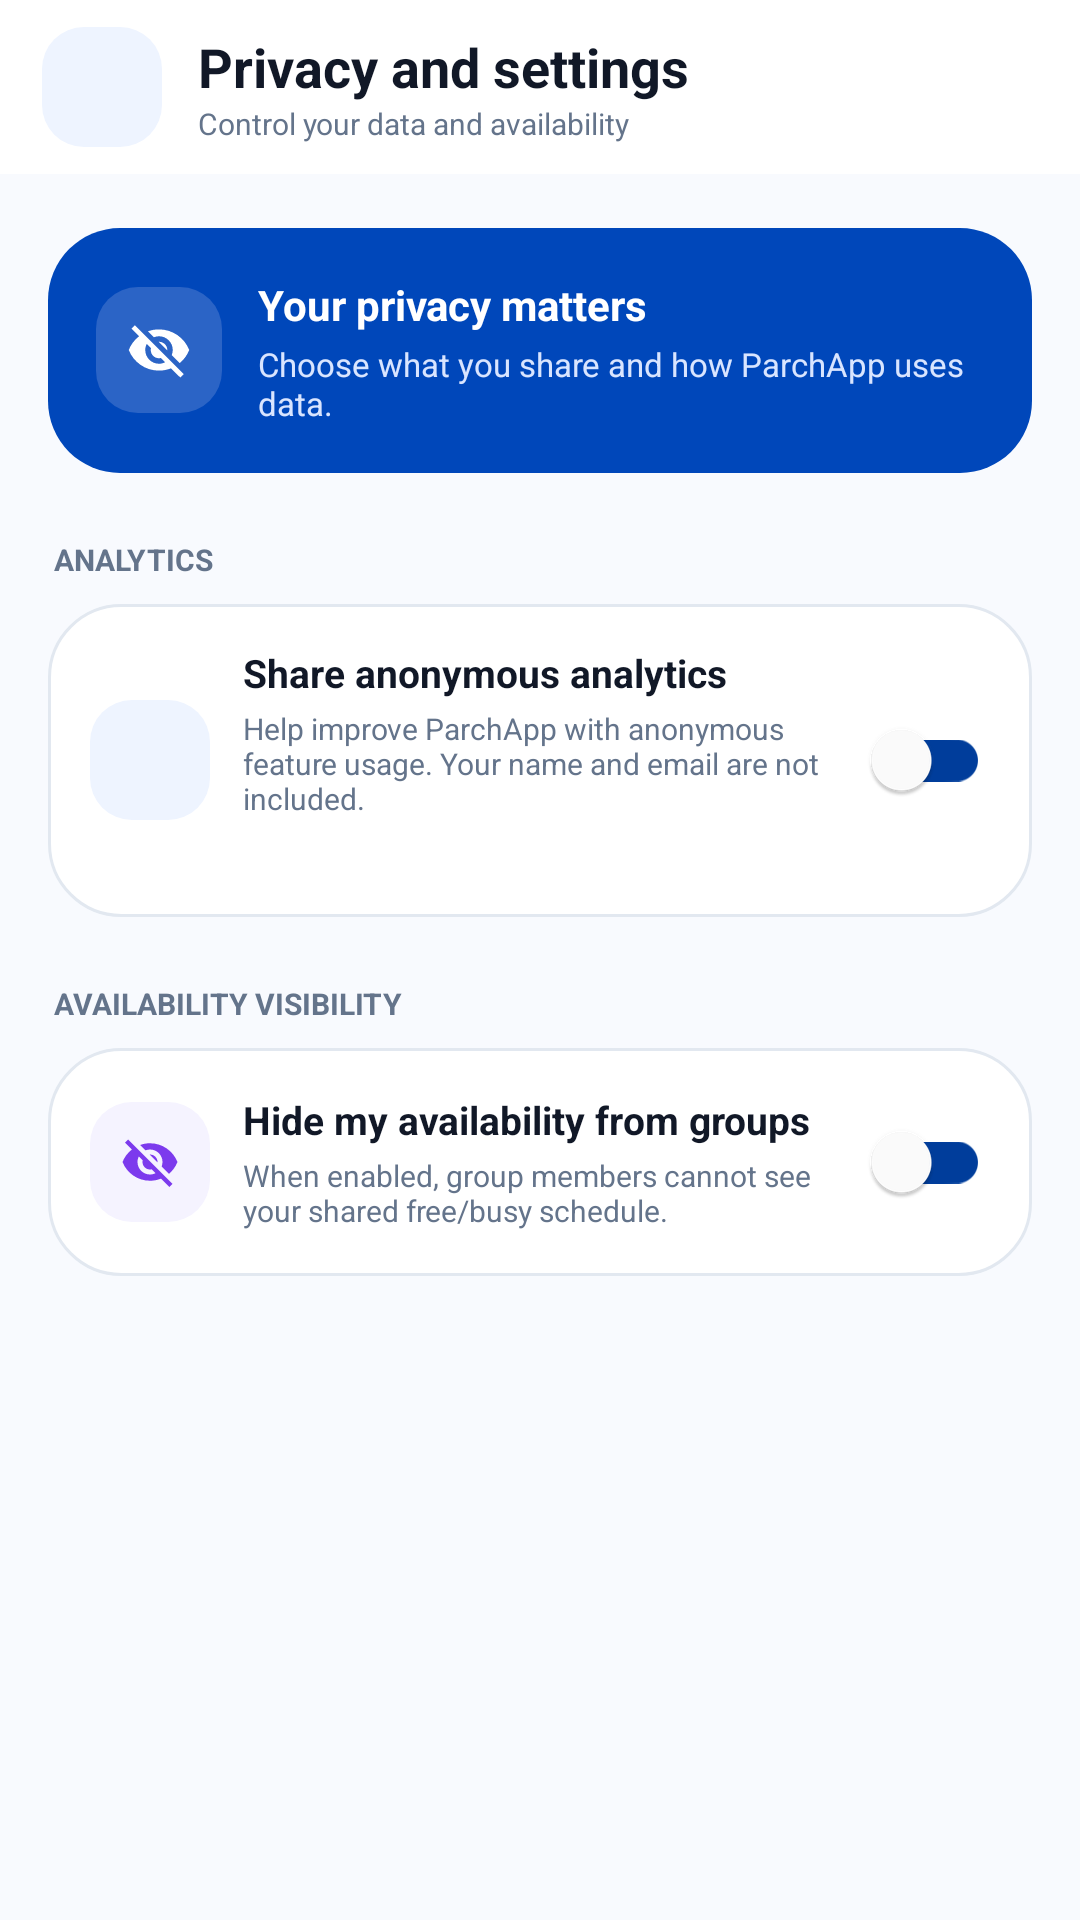

Locate icon controls on the screen. Image size 1080 × 1920, boxes as (x1, y1, x2, y2).
visibility off: (96, 287, 222, 413), (90, 1102, 210, 1222)
